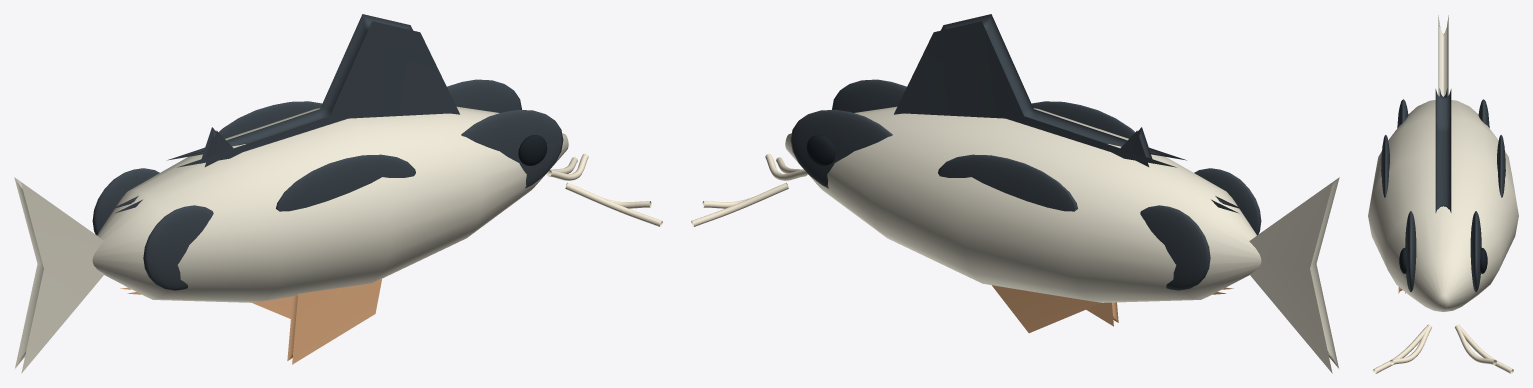
The model's file is PandaCory.fbx.
3 views of the same model, side by side, from view 1: azimuth 30°, elevation 25°; view 2: azimuth 150°, elevation 25°; view 3: azimuth 270°, elevation 25° (orthographic). The views are drawn at different scales.
Visible parts, largest first — view 1: Panda cory rounded body, Panda cory dark dorsal fin, Panda cory caudal fin, Panda cory pectoral fin, Panda cory saddle, Panda cory eye mask, Panda cory tail patch, Panda cory eye mask.001, Panda cory saddle.001, Panda cory tail patch.001, Panda cory barbel.001, Panda cory eye (+2 smaller); view 2: Panda cory rounded body, Panda cory dark dorsal fin, Panda cory caudal fin, Panda cory saddle.001, Panda cory eye mask.001, Panda cory tail patch.001, Panda cory anal fin, Panda cory eye mask, Panda cory saddle, Panda cory tail patch, Panda cory barbel.003, Panda cory eye.001 (+1 smaller); view 3: Panda cory rounded body, Panda cory dark dorsal fin, Panda cory caudal fin, Panda cory eye mask, Panda cory eye mask.001, Panda cory saddle.001, Panda cory saddle, Panda cory barbel.001, Panda cory barbel.003, Panda cory barbel, Panda cory barbel.002, Panda cory tail patch.001 (+3 smaller).
Part boxes in pixels (box(x1,y1,x2,y2)): Panda cory rounded body: box(92, 106, 568, 302); Panda cory dark dorsal fin: box(167, 14, 459, 167); Panda cory caudal fin: box(14, 177, 104, 373); Panda cory pectoral fin: box(287, 278, 382, 364); Panda cory saddle: box(276, 154, 415, 211); Panda cory eye mask: box(461, 109, 563, 188); Panda cory tail patch: box(143, 205, 213, 290); Panda cory eye mask.001: box(447, 79, 521, 112); Panda cory saddle.001: box(218, 101, 322, 138); Panda cory tail patch.001: box(92, 168, 159, 235); Panda cory barbel.001: box(565, 183, 662, 226); Panda cory eye: box(518, 135, 547, 165); Panda cory rounded body: box(785, 106, 1261, 302); Panda cory dark dorsal fin: box(894, 14, 1186, 167); Panda cory caudal fin: box(1249, 177, 1339, 373); Panda cory saddle.001: box(938, 154, 1077, 211); Panda cory eye mask.001: box(790, 109, 892, 188); Panda cory tail patch.001: box(1140, 205, 1210, 290); Panda cory anal fin: box(992, 285, 1233, 333); Panda cory eye mask: box(832, 79, 906, 112); Panda cory saddle: box(1031, 101, 1135, 138); Panda cory tail patch: box(1194, 168, 1261, 235); Panda cory barbel.003: box(691, 183, 788, 226); Panda cory eye.001: box(806, 135, 835, 165); Panda cory rounded body: box(1368, 100, 1518, 311); Panda cory dark dorsal fin: box(1435, 89, 1451, 212); Panda cory caudal fin: box(1438, 15, 1448, 96); Panda cory eye mask: box(1405, 211, 1416, 291); Panda cory eye mask.001: box(1470, 211, 1481, 291); Panda cory saddle.001: box(1497, 135, 1505, 197); Panda cory saddle: box(1381, 135, 1389, 197); Panda cory barbel.001: box(1373, 324, 1430, 373); Panda cory barbel.003: box(1456, 324, 1513, 373); Panda cory barbel: box(1390, 325, 1431, 364); Panda cory barbel.002: box(1455, 325, 1496, 364); Panda cory tail patch.001: box(1478, 99, 1489, 127).
Bounding box in the file's own units: 1.6 × 0.7686 × 0.44.
